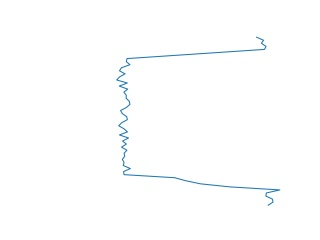distributaryChannelFill: (113, 36, 285, 206)
